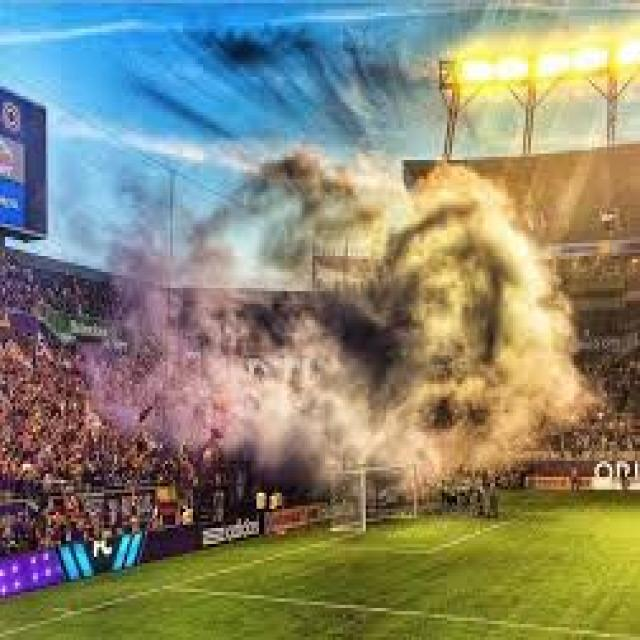Smoke: (276, 160, 586, 489), (88, 176, 302, 475)
